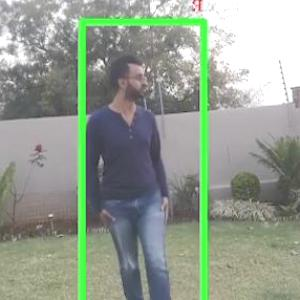follow: (83, 49, 178, 299)
